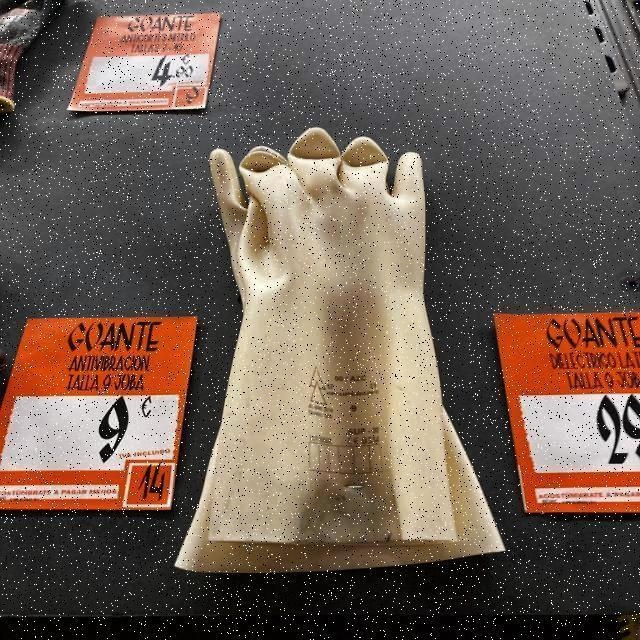Guantes: (172, 125, 506, 574)
